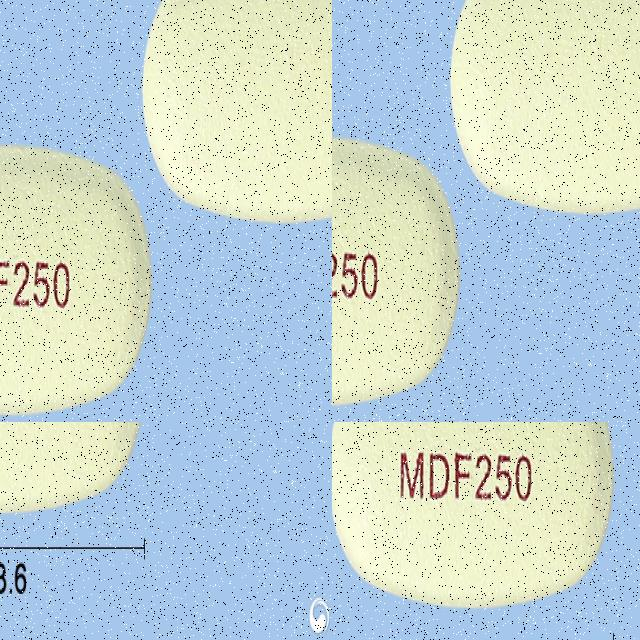A Progen Cefixime Cap: (0, 422, 232, 586)
Cefaxime Cap: (0, 281, 203, 422)
Clarid - 250mg: (332, 422, 617, 615)
Daewoong Levofloxacin: (332, 222, 475, 422)
